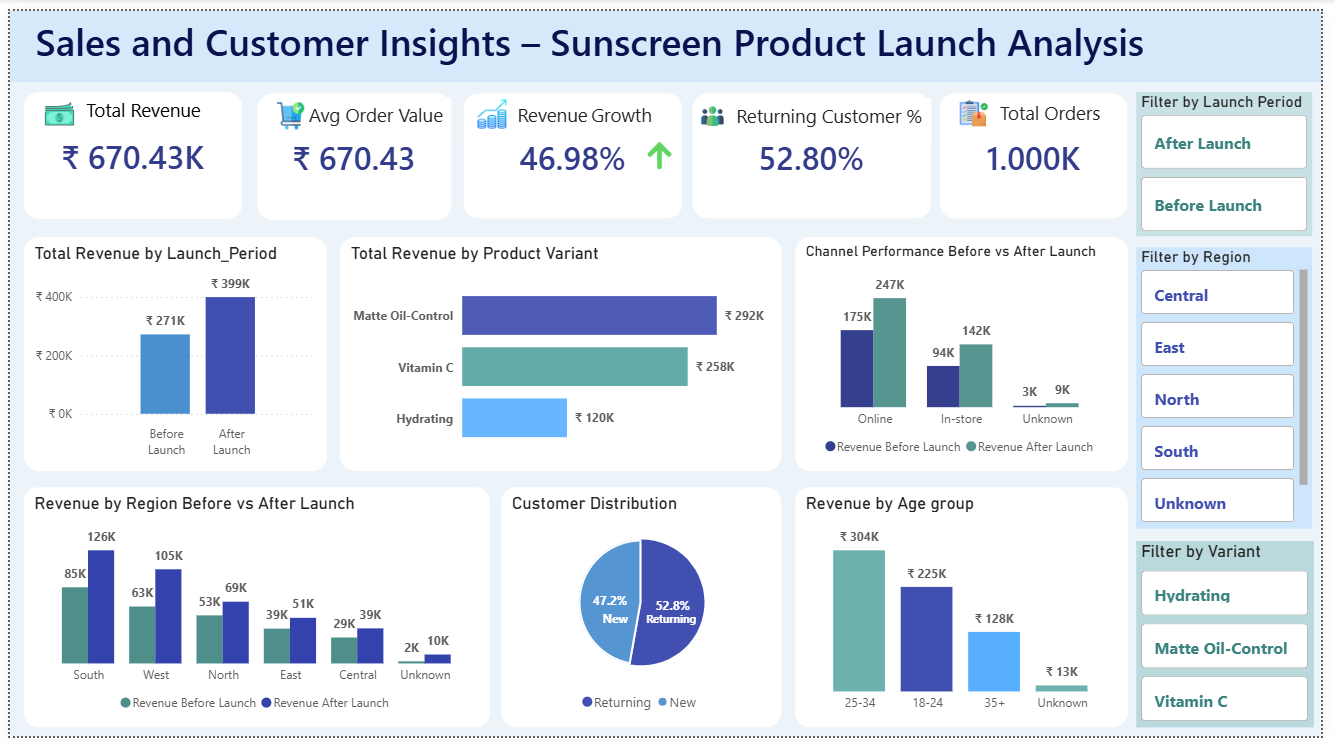

Layout of this report page (visuals, bound fields, positions):
{"tool":"powerbi","page":{"name":"Page 1","canvas":[1311,725],"ordinal":0},"visuals":[{"type":"cardVisual","title":"Avg Order Value","fields":{"Data":["Sales_Data.Avg Order Value"]},"box":[247.5,82.5,193.8,126.2],"z":0},{"type":"cardVisual","title":"Total Orders","fields":{"Data":["Sales_Data.Total Orders"]},"box":[930,82.5,187.5,125],"z":1000},{"type":"cardVisual","title":"Growth % After Launch","fields":{"Data":["Sales_Data.Growth % After Launch"]},"box":[453.8,82.5,218.8,125],"z":2000},{"type":"textbox","box":[0,0,1311.2,71.2],"z":3000},{"type":"cardVisual","title":"Total Revenue","fields":{"Data":["Sales_Data.Total Revenue"]},"box":[13.8,81.2,218.8,126.2],"z":4000},{"type":"clusteredColumnChart","fields":{"Category":["Sales_Data.Launch_Period"],"Y":["Sales_Data.Total Revenue"]},"box":[13.3,226.7,303.3,233.3],"z":5000},{"type":"clusteredBarChart","title":"Total Revenue by Product Variant","fields":{"Y":["Sales_Data.Total Revenue"],"Category":["Sales_Data.Short Variant"]},"box":[330,226.7,441.7,233.3],"z":6000},{"type":"clusteredColumnChart","title":"Channel Performance Before vs After Launch","fields":{"Category":["Sales_Data.Channel"],"Y":["Sales_Data.Revenue Before Launch","Sales_Data.Revenue After Launch"]},"box":[785,226.2,332.5,233.8],"z":7000},{"type":"clusteredColumnChart","title":"Revenue by Region Before vs After Launch","fields":{"Category":["Sales_Data.Region"],"Y":["Sales_Data.Revenue Before Launch","Sales_Data.Revenue After Launch"]},"box":[13.8,476.2,466.2,240],"z":8000},{"type":"pieChart","title":"Customer Distribution","fields":{"Category":["Sales_Data.Customer_Type"],"Y":["Sales_Data.Total Orders"]},"box":[491.2,476.2,280,240],"z":9000},{"type":"clusteredColumnChart","title":"Revenue  by Age group ","fields":{"Category":["Sales_Data.Age_Group"],"Y":["Sales_Data.Total Revenue"]},"box":[785,476.2,332.5,240],"z":10000},{"type":"textbox","box":[587.5,592.5,43.8,27.5],"z":11000},{"type":"textbox","box":[631.2,592.5,82.5,33.8],"z":12000},{"type":"advancedSlicerVisual","title":"Filter by Launch Period","fields":{"Values":["Sales_Data.Launch_Period"]},"box":[1126.2,81.2,176.2,143.8],"z":13000},{"type":"advancedSlicerVisual","title":"Filter by Region","fields":{"Values":["Sales_Data.Region"]},"box":[1126.2,236.2,176.2,281.2],"z":14000},{"type":"advancedSlicerVisual","title":"Filter by Variant","fields":{"Values":["Sales_Data.Short Variant"]},"box":[1126.2,530,177.5,186.2],"z":15000},{"type":"textbox","box":[71.2,81.2,143.8,41.2],"z":16000},{"type":"image","box":[27.5,86.2,43.8,31.2],"z":17000},{"type":"textbox","box":[293.8,86.2,147.5,45],"z":18000},{"type":"image","box":[266.2,91.2,28.8,27.5],"z":19000},{"type":"textbox","box":[502.5,86.2,152.5,45],"z":20000},{"type":"image","box":[467.5,88.8,28.8,28.8],"z":21000},{"type":"textbox","box":[985,83.8,115,43.8],"z":22000},{"type":"image","box":[942.5,88.8,42.5,27.5],"z":23000},{"type":"cardVisual","title":"Total Orders","fields":{"Data":["Sales_Data.Returning Customer Rate %"]},"box":[682.5,82.5,238.8,125],"z":23001},{"type":"image","box":[631.2,117.5,36.2,53.8],"z":23002},{"type":"textbox","box":[721.2,87.5,200,45],"z":23003},{"type":"image","box":[691.2,87.5,22.5,35],"z":23004}]}

Visuals, with their boxes in screenshot pixels (x1, y1, x2, y2), scaled from the page's 1311x725 canvas onto the 1334x744 screenshot:
"Avg Order Value" cardVisual: (x1=252, y1=85, x2=449, y2=214)
"Total Orders" cardVisual: (x1=946, y1=85, x2=1137, y2=213)
"Growth % After Launch" cardVisual: (x1=462, y1=85, x2=684, y2=213)
textbox: (x1=0, y1=0, x2=1333, y2=73)
"Total Revenue" cardVisual: (x1=14, y1=83, x2=237, y2=213)
clusteredColumnChart - Sales_Data.Launch_Period x Sales_Data.Total Revenue: (x1=14, y1=233, x2=322, y2=472)
"Total Revenue by Product Variant" clusteredBarChart: (x1=336, y1=233, x2=785, y2=472)
"Channel Performance Before vs After Launch" clusteredColumnChart: (x1=799, y1=232, x2=1137, y2=472)
"Revenue by Region Before vs After Launch" clusteredColumnChart: (x1=14, y1=489, x2=488, y2=735)
"Customer Distribution" pieChart: (x1=500, y1=489, x2=785, y2=735)
"Revenue  by Age group " clusteredColumnChart: (x1=799, y1=489, x2=1137, y2=735)
textbox: (x1=598, y1=608, x2=642, y2=636)
textbox: (x1=642, y1=608, x2=726, y2=643)
"Filter by Launch Period" advancedSlicerVisual: (x1=1146, y1=83, x2=1325, y2=231)
"Filter by Region" advancedSlicerVisual: (x1=1146, y1=242, x2=1325, y2=531)
"Filter by Variant" advancedSlicerVisual: (x1=1146, y1=544, x2=1327, y2=735)
textbox: (x1=72, y1=83, x2=219, y2=126)
image: (x1=28, y1=88, x2=73, y2=120)
textbox: (x1=299, y1=88, x2=449, y2=135)
image: (x1=271, y1=94, x2=300, y2=122)
textbox: (x1=511, y1=88, x2=666, y2=135)
image: (x1=476, y1=91, x2=505, y2=121)
textbox: (x1=1002, y1=86, x2=1119, y2=131)
image: (x1=959, y1=91, x2=1002, y2=119)
"Total Orders" cardVisual: (x1=694, y1=85, x2=937, y2=213)
image: (x1=642, y1=121, x2=679, y2=176)
textbox: (x1=734, y1=90, x2=937, y2=136)
image: (x1=703, y1=90, x2=726, y2=126)
